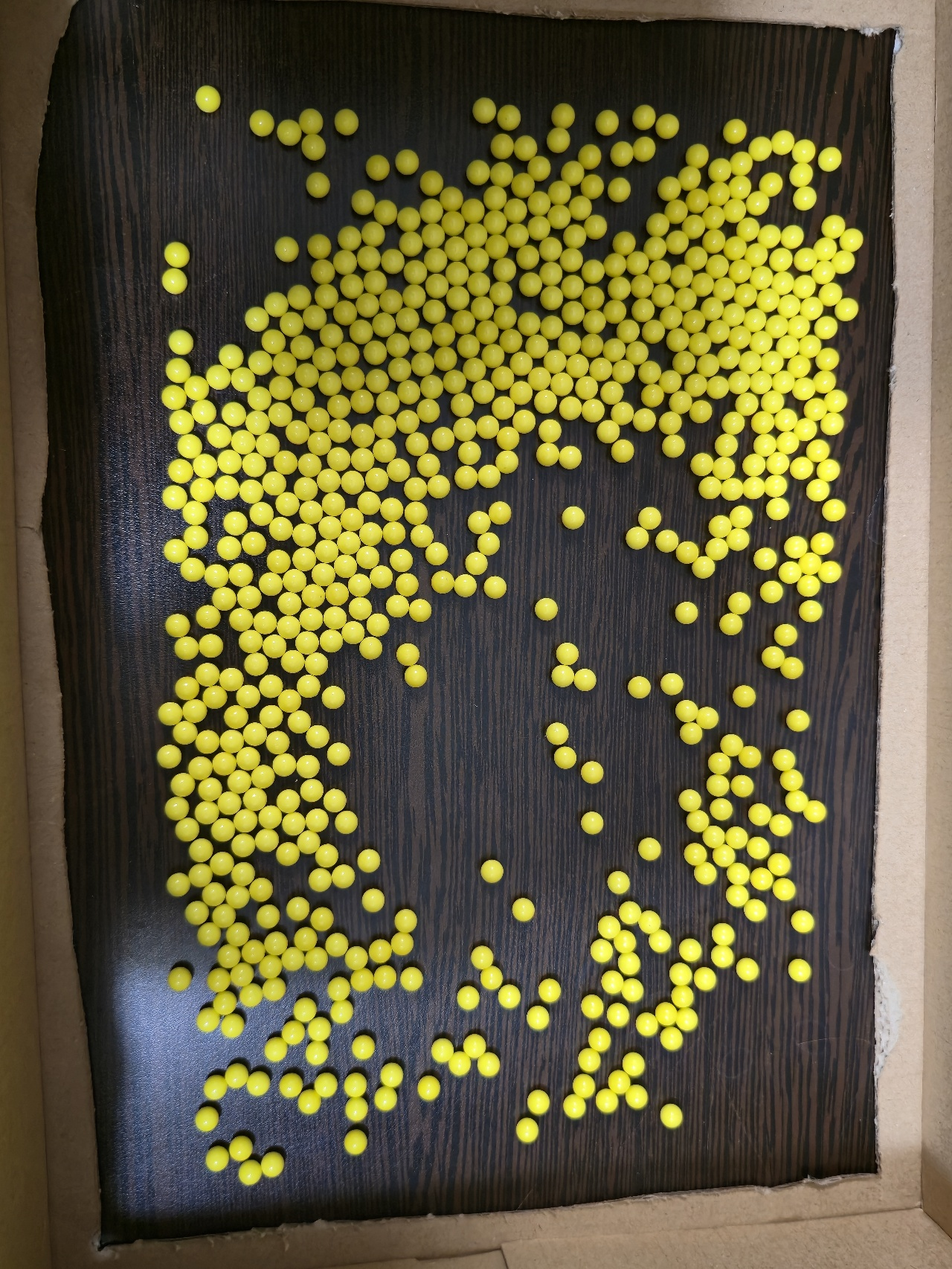yellow_bead: (169, 544, 183, 558), (174, 335, 187, 350), (222, 542, 236, 555), (173, 464, 186, 478), (248, 458, 261, 472), (223, 455, 237, 468), (183, 440, 197, 453), (237, 435, 250, 449), (213, 429, 226, 443), (212, 370, 225, 384), (254, 356, 267, 370), (225, 350, 238, 364), (170, 248, 183, 262), (823, 152, 836, 166), (195, 844, 208, 857), (242, 752, 255, 765), (283, 597, 296, 610), (264, 578, 277, 591), (234, 568, 247, 581), (186, 563, 199, 576), (190, 531, 203, 544), (229, 517, 242, 530), (255, 507, 268, 520), (169, 491, 182, 504), (245, 485, 258, 498), (221, 481, 234, 494), (251, 416, 264, 429), (175, 415, 188, 428), (274, 408, 287, 421), (253, 392, 266, 405), (840, 303, 853, 316), (270, 298, 283, 311), (824, 288, 837, 301), (521, 1123, 533, 1137), (666, 1109, 678, 1123), (631, 1090, 643, 1104), (483, 1058, 495, 1072), (532, 1011, 544, 1025), (299, 1003, 311, 1017), (216, 823, 230, 835), (248, 728, 262, 740), (178, 727, 192, 739), (242, 591, 256, 603), (188, 507, 202, 519), (811, 445, 825, 457), (199, 405, 211, 419), (777, 136, 789, 150), (601, 1095, 613, 1108), (320, 1079, 332, 1092), (386, 1069, 398, 1082), (628, 1058, 640, 1071), (641, 1018, 653, 1031), (612, 1009, 624, 1022), (245, 990, 258, 1002), (544, 984, 556, 997), (699, 973, 711, 986), (794, 964, 806, 977), (742, 963, 754, 976), (716, 951, 729, 963), (350, 951, 362, 964), (685, 944, 697, 957), (367, 894, 379, 907), (208, 888, 220, 901), (314, 874, 327, 886), (338, 870, 350, 883), (237, 867, 249, 880), (773, 858, 786, 870), (321, 849, 333, 862), (752, 842, 765, 854), (237, 840, 250, 852), (264, 811, 277, 823), (223, 797, 236, 809), (282, 795, 295, 807), (329, 794, 341, 807), (278, 759, 291, 771), (271, 736, 284, 748), (265, 710, 277, 723), (265, 680, 277, 693), (286, 655, 299, 667), (300, 637, 313, 649), (347, 626, 359, 639), (391, 600, 404, 612), (289, 574, 301, 587), (771, 503, 784, 515), (281, 498, 294, 510), (812, 484, 825, 496), (196, 483, 208, 496), (268, 477, 281, 489), (795, 463, 808, 475), (199, 460, 212, 472), (279, 456, 292, 468), (356, 454, 369, 466), (332, 453, 345, 465), (262, 439, 274, 452), (313, 437, 326, 449), (437, 432, 449, 445), (333, 425, 346, 437), (826, 418, 839, 430), (518, 415, 530, 428), (477, 385, 489, 398), (267, 335, 280, 347), (820, 321, 832, 334), (827, 220, 840, 232), (795, 169, 808, 181), (797, 145, 810, 157), (755, 142, 767, 155), (569, 1100, 580, 1114), (437, 1044, 448, 1058), (406, 972, 417, 986), (807, 806, 821, 817), (274, 522, 288, 533), (239, 373, 250, 387), (171, 274, 181, 289), (313, 1023, 325, 1035), (333, 983, 345, 995), (675, 968, 687, 980), (596, 945, 608, 957), (331, 939, 343, 951), (654, 936, 666, 948), (797, 916, 809, 928), (191, 907, 203, 919), (613, 876, 625, 888), (486, 865, 498, 877), (363, 855, 375, 867), (288, 818, 300, 830), (341, 816, 353, 828), (239, 815, 251, 827), (715, 803, 727, 815), (171, 803, 183, 815), (306, 784, 318, 796), (233, 776, 245, 788), (332, 748, 344, 760), (681, 705, 693, 717), (327, 691, 339, 703), (634, 681, 646, 693), (666, 678, 678, 690), (372, 619, 384, 631), (805, 605, 817, 617), (733, 597, 745, 609), (825, 566, 837, 578), (396, 554, 408, 566), (483, 538, 495, 550), (324, 521, 336, 533), (828, 504, 840, 516), (363, 497, 375, 509), (727, 483, 739, 495), (300, 483, 312, 495), (347, 476, 359, 488), (696, 458, 708, 470), (463, 447, 475, 459), (782, 437, 794, 449), (292, 426, 304, 438), (602, 425, 614, 437), (482, 421, 494, 433), (229, 408, 241, 420), (457, 399, 469, 411), (382, 396, 394, 408), (540, 396, 552, 408), (606, 387, 618, 399), (782, 341, 794, 353), (286, 318, 298, 330), (267, 1159, 278, 1172), (533, 1096, 544, 1109), (469, 1040, 480, 1053), (463, 992, 474, 1005), (627, 984, 638, 997), (607, 976, 618, 989), (270, 937, 281, 950), (232, 928, 243, 941), (604, 921, 615, 934), (231, 891, 244, 902), (261, 835, 274, 846), (181, 823, 194, 834), (775, 820, 788, 831), (200, 807, 213, 818), (176, 778, 187, 791), (163, 751, 176, 762), (242, 690, 255, 701), (201, 669, 214, 680), (250, 658, 263, 669), (364, 642, 377, 653), (322, 475, 335, 486), (392, 464, 405, 475), (838, 256, 849, 269), (845, 234, 858, 245), (357, 1041, 367, 1055), (588, 1000, 598, 1014), (454, 1060, 466, 1071), (268, 985, 280, 996), (174, 974, 185, 986), (237, 969, 248, 981), (477, 951, 488, 963), (620, 936, 631, 948), (400, 915, 411, 927), (263, 910, 274, 922), (219, 910, 230, 922), (625, 907, 636, 919), (518, 904, 529, 916), (732, 891, 744, 902), (173, 878, 184, 890), (194, 870, 206, 881), (644, 843, 655, 855), (587, 817, 598, 829), (754, 809, 766, 820), (685, 794, 696, 806), (779, 754, 791, 765), (225, 735, 237, 746), (579, 674, 591, 685), (557, 670, 569, 681), (562, 648, 573, 660), (326, 635, 338, 646), (329, 612, 341, 623), (541, 603, 553, 614), (355, 603, 367, 614), (767, 586, 778, 598), (460, 579, 471, 591), (698, 562, 710, 573), (471, 557, 482, 569), (431, 548, 443, 559), (321, 545, 333, 556), (711, 544, 723, 555), (661, 536, 673, 547), (631, 533, 643, 544), (644, 513, 656, 524), (328, 498, 340, 509), (822, 465, 834, 476), (748, 460, 760, 471), (669, 440, 680, 452), (759, 440, 771, 451), (721, 440, 733, 451), (544, 425, 556, 436), (459, 423, 471, 434), (727, 417, 739, 428), (565, 402, 576, 414), (742, 398, 753, 410), (767, 396, 779, 407), (297, 393, 309, 404), (799, 383, 810, 395), (274, 382, 286, 393), (557, 378, 568, 390), (756, 376, 767, 388), (734, 376, 745, 388), (745, 356, 756, 368), (776, 254, 788, 265), (431, 254, 442, 266), (283, 127, 295, 138), (288, 953, 298, 966), (302, 680, 315, 690), (225, 673, 238, 683), (218, 593, 231, 603), (353, 579, 366, 589), (339, 560, 352, 570), (298, 529, 311, 539), (800, 280, 810, 293), (594, 1035, 605, 1046), (311, 954, 322, 965), (733, 868, 744, 879), (713, 780, 724, 791), (587, 767, 598, 778), (686, 728, 697, 739), (552, 728, 563, 739), (768, 652, 779, 663), (781, 629, 792, 640), (681, 607, 692, 618), (318, 568, 329, 579), (733, 534, 744, 545), (715, 521, 726, 532), (347, 513, 358, 524), (736, 511, 747, 522), (748, 482, 759, 493), (705, 482, 716, 493), (771, 481, 782, 492), (484, 470, 495, 481), (565, 452, 576, 463), (379, 444, 390, 455), (358, 429, 369, 440), (801, 424, 812, 435), (379, 420, 390, 431), (665, 417, 676, 428), (781, 414, 792, 425), (617, 408, 628, 419), (588, 405, 599, 416), (582, 382, 593, 393), (550, 356, 561, 367), (805, 341, 816, 352), (772, 321, 783, 332), (757, 272, 768, 283), (281, 244, 292, 255), (753, 197, 764, 208), (270, 1046, 282, 1056), (666, 1035, 678, 1045), (623, 959, 635, 969), (225, 951, 235, 963), (645, 916, 655, 928), (781, 884, 791, 896), (700, 869, 712, 879), (689, 849, 701, 859), (732, 832, 742, 844), (692, 816, 704, 826), (257, 771, 269, 781), (559, 752, 571, 762), (726, 739, 738, 749), (793, 716, 805, 726), (164, 707, 176, 717), (235, 614, 247, 624), (343, 537, 355, 547), (248, 537, 260, 547), (460, 471, 472, 481), (501, 456, 513, 466), (402, 416, 414, 426), (638, 414, 650, 424), (312, 413, 324, 423), (422, 405, 434, 415), (779, 376, 789, 388), (301, 369, 313, 379), (175, 364, 185, 376), (725, 352, 735, 364), (296, 342, 308, 352), (757, 336, 767, 348), (402, 314, 414, 324), (785, 300, 795, 312), (765, 230, 775, 242), (205, 95, 215, 107), (293, 716, 306, 725), (244, 635, 257, 644), (305, 614, 318, 623), (759, 556, 772, 565), (305, 507, 318, 516), (254, 313, 263, 326), (819, 243, 832, 252), (584, 1056, 595, 1066), (682, 1015, 692, 1026), (204, 929, 214, 940), (709, 831, 719, 842), (703, 713, 713, 724), (403, 649, 414, 659), (490, 582, 501, 592), (804, 581, 815, 591), (819, 538, 829, 549), (423, 459, 434, 469), (412, 438, 422, 449), (498, 402, 509, 412), (676, 396, 686, 407), (517, 387, 527, 398), (534, 373, 545, 383), (596, 363, 607, 373), (573, 359, 583, 370), (823, 353, 834, 363), (416, 335, 427, 345), (751, 314, 761, 325), (310, 312, 321, 322), (294, 292, 305, 302), (433, 280, 443, 291), (412, 266, 422, 277), (365, 252, 375, 263), (788, 231, 798, 242), (369, 228, 379, 239), (427, 205, 437, 216), (759, 873, 768, 885), (216, 858, 228, 867), (282, 848, 294, 857), (303, 840, 315, 849), (791, 797, 803, 806), (302, 764, 314, 773), (194, 762, 206, 771), (201, 736, 213, 745), (312, 734, 324, 743), (188, 704, 200, 713), (180, 642, 192, 651), (283, 621, 295, 630), (259, 617, 271, 626), (210, 573, 222, 582), (416, 530, 428, 539), (567, 515, 579, 524), (410, 507, 422, 516), (386, 504, 398, 513), (410, 483, 422, 492), (433, 481, 445, 490), (692, 379, 701, 391), (408, 237, 417, 249), (582, 1080, 590, 1093), (310, 661, 323, 669), (790, 542, 803, 550), (256, 883, 266, 893), (715, 758, 725, 768), (720, 463, 730, 473), (704, 360, 714, 370), (533, 341, 543, 351), (350, 1082, 361, 1091), (411, 670, 422, 679), (543, 449, 554, 458), (617, 445, 628, 454), (715, 382, 724, 393), (620, 365, 629, 376), (794, 362, 805, 371), (518, 358, 527, 369), (634, 347, 643, 358), (549, 321, 558, 332), (730, 309, 739, 320), (411, 290, 420, 301), (745, 223, 754, 234), (248, 797, 262, 804), (253, 1078, 265, 1086), (227, 1021, 239, 1029), (396, 939, 408, 947), (292, 906, 304, 914), (750, 905, 762, 913), (230, 711, 242, 719), (171, 620, 183, 628), (202, 611, 214, 619), (784, 570, 796, 578), (272, 555, 284, 563), (800, 253, 808, 265), (451, 245, 463, 253), (432, 229, 440, 241), (361, 555, 374, 562), (303, 463, 316, 470), (318, 913, 328, 922), (721, 851, 730, 861), (727, 619, 737, 628), (438, 576, 448, 585), (807, 558, 816, 568), (683, 547, 693, 556), (760, 417, 769, 427), (698, 406, 707, 416), (374, 375, 383, 385), (646, 367, 655, 377), (419, 359, 428, 369), (329, 330, 338, 340), (364, 300, 373, 310), (390, 256, 399, 266), (673, 237, 683, 246), (739, 691, 750, 699), (415, 605, 426, 613), (402, 579, 413, 587), (376, 571, 387, 579), (495, 507, 506, 515), (407, 386, 415, 397), (328, 377, 336, 388), (371, 348, 382, 356), (456, 292, 464, 303), (452, 270, 463, 278), (343, 257, 351, 268), (754, 249, 762, 260), (548, 243, 556, 254), (311, 819, 323, 826), (205, 640, 217, 647), (338, 400, 345, 412), (352, 1140, 361, 1149), (739, 780, 748, 789), (789, 776, 798, 785), (789, 663, 798, 672), (406, 214, 415, 223), (717, 164, 726, 173), (429, 381, 437, 391), (452, 377, 460, 387), (668, 376, 676, 386), (397, 364, 405, 374), (396, 339, 404, 349), (568, 337, 576, 347), (626, 325, 634, 335), (498, 288, 506, 298), (722, 285, 730, 295), (373, 276, 381, 286), (549, 268, 557, 278), (567, 255, 577, 263), (475, 254, 483, 264), (653, 242, 661, 252), (427, 1085, 434, 1096), (504, 990, 515, 997), (251, 945, 258, 956), (350, 280, 357, 291), (680, 994, 689, 1002), (302, 934, 311, 942), (717, 928, 729, 934), (208, 786, 216, 795), (307, 590, 316, 598), (505, 432, 514, 440), (279, 360, 288, 368), (737, 332, 745, 341), (432, 307, 440, 316), (550, 292, 558, 301), (348, 234, 356, 243), (733, 206, 741, 215), (605, 117, 613, 126), (482, 106, 490, 115), (267, 963, 274, 973), (218, 758, 228, 765), (332, 588, 342, 595), (323, 353, 330, 363), (593, 316, 600, 326), (670, 312, 677, 322), (642, 305, 649, 315), (618, 283, 625, 293), (503, 264, 510, 274), (475, 230, 482, 240), (799, 195, 806, 205), (572, 167, 579, 177), (365, 532, 376, 538), (573, 307, 579, 318), (573, 280, 579, 291), (771, 179, 777, 190), (748, 751, 756, 759), (211, 691, 219, 699), (472, 366, 480, 374), (652, 326, 660, 334), (382, 320, 390, 328), (315, 180, 323, 188), (314, 1049, 323, 1056), (476, 521, 485, 528), (502, 372, 509, 381), (528, 318, 535, 327), (481, 303, 488, 312), (574, 231, 581, 240), (382, 974, 388, 984), (373, 478, 383, 484), (493, 350, 499, 360), (614, 344, 620, 354), (678, 334, 684, 344), (718, 326, 724, 336), (361, 326, 367, 336), (538, 222, 544, 232), (580, 203, 586, 213), (495, 192, 501, 202), (618, 1080, 625, 1088), (220, 1002, 228, 1009), (361, 395, 368, 403), (325, 293, 332, 301), (662, 292, 669, 300), (361, 197, 368, 205), (477, 167, 484, 175), (405, 158, 413, 165), (525, 143, 532, 151), (311, 143, 318, 151), (643, 112, 650, 120), (666, 1009, 671, 1020), (685, 294, 691, 303), (660, 266, 666, 275), (637, 257, 643, 266), (517, 230, 523, 239), (657, 219, 663, 228), (385, 208, 391, 217), (539, 199, 545, 208), (619, 184, 625, 193), (701, 338, 706, 348), (713, 303, 718, 313), (718, 261, 723, 271), (303, 556, 310, 563), (744, 292, 751, 299), (688, 173, 695, 180), (500, 170, 507, 177), (621, 150, 628, 157), (666, 121, 673, 128), (345, 118, 352, 125), (359, 977, 365, 985), (530, 280, 536, 288), (681, 272, 687, 280), (595, 221, 601, 229), (559, 213, 565, 221), (669, 183, 675, 191), (217, 977, 222, 986), (685, 357, 690, 366), (559, 134, 564, 143), (306, 1102, 312, 1109), (592, 340, 598, 347), (390, 298, 396, 305), (323, 267, 329, 274), (495, 219, 501, 226), (515, 206, 521, 213), (644, 143, 650, 150), (379, 946, 384, 954), (811, 404, 821, 408), (167, 391, 175, 396), (469, 341, 474, 349), (480, 278, 484, 288), (594, 266, 599, 274), (560, 188, 565, 196), (698, 150, 703, 158), (356, 1105, 362, 1111), (492, 972, 498, 978), (511, 337, 517, 343), (808, 302, 817, 306), (528, 254, 534, 260), (653, 390, 658, 397), (506, 313, 511, 320), (616, 307, 621, 314), (643, 282, 648, 289), (741, 268, 746, 275), (695, 223, 700, 230), (503, 141, 508, 148), (736, 125, 741, 132), (698, 254, 702, 262), (511, 113, 515, 121), (242, 1146, 247, 1152), (237, 1071, 242, 1077), (345, 309, 350, 315), (736, 245, 741, 251), (451, 194, 456, 200), (540, 164, 545, 170), (563, 113, 569, 118), (341, 1008, 348, 1012), (704, 281, 708, 288), (781, 277, 788, 281), (616, 261, 620, 268), (625, 240, 630, 245), (277, 643, 281, 649), (489, 329, 493, 335), (716, 237, 720, 243), (453, 222, 459, 226), (312, 118, 316, 124), (204, 91, 212, 94), (192, 382, 199, 385), (210, 1083, 215, 1087), (353, 376, 358, 380), (447, 356, 451, 361), (595, 295, 599, 300), (715, 215, 719, 220), (381, 1093, 387, 1096), (203, 1015, 209, 1018), (348, 352, 352, 356), (319, 244, 323, 248), (678, 209, 682, 213), (433, 181, 437, 185), (212, 1154, 217, 1157), (777, 457, 782, 460), (771, 356, 776, 359), (388, 1096, 392, 1099), (268, 645, 271, 649), (201, 388, 204, 392), (797, 321, 803, 323), (466, 320, 469, 324), (475, 208, 478, 212), (721, 191, 724, 195), (594, 184, 598, 187), (266, 120, 268, 126), (835, 395, 840, 397), (298, 557, 301, 560), (772, 461, 774, 465), (176, 376, 180, 378), (202, 1116, 205, 1118), (298, 1032, 300, 1035), (445, 332, 447, 335), (526, 184, 529, 186), (379, 167, 382, 169), (245, 1170, 247, 1172), (473, 521, 475, 523), (697, 320, 698, 324), (768, 295, 772, 296), (742, 181, 744, 183), (259, 117, 263, 118), (212, 1020, 213, 1023), (823, 266, 826, 267), (498, 245, 499, 248), (805, 192, 808, 193), (729, 935, 730, 937), (291, 701, 292, 703), (294, 698, 295, 700), (830, 398, 832, 399), (811, 255, 812, 257), (742, 158, 744, 159), (212, 1120, 213, 1121), (311, 1052, 312, 1053), (390, 533, 391, 534), (231, 468, 232, 469), (783, 461, 784, 462), (235, 420, 236, 421), (840, 397, 841, 398), (822, 376, 823, 377), (777, 360, 778, 361), (779, 278, 780, 279), (821, 277, 822, 278), (829, 269, 830, 270), (827, 267, 828, 268), (803, 265, 804, 266), (809, 254, 810, 255), (700, 201, 701, 202), (222, 1160, 223, 1160), (211, 1119, 212, 1119), (210, 1018, 210, 1018), (181, 687, 181, 688), (176, 504, 177, 504), (782, 460, 783, 460), (810, 408, 811, 408), (841, 399, 842, 399), (178, 396, 178, 396), (820, 379, 820, 379), (817, 306, 817, 307), (788, 283, 789, 283), (808, 193, 809, 193), (803, 193, 803, 193), (746, 161, 747, 161), (593, 155, 594, 155), (263, 118, 264, 118)
